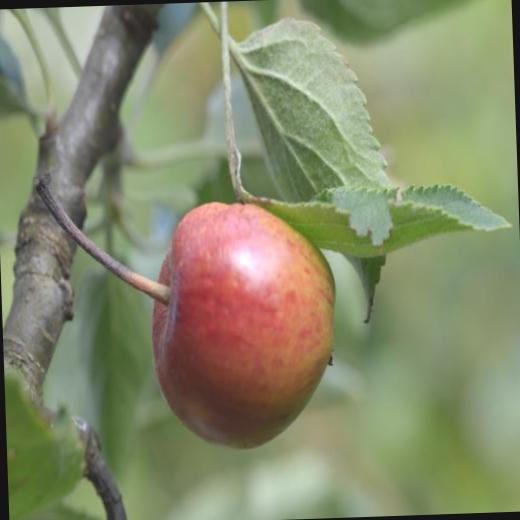Apple: (34, 160, 344, 460)
